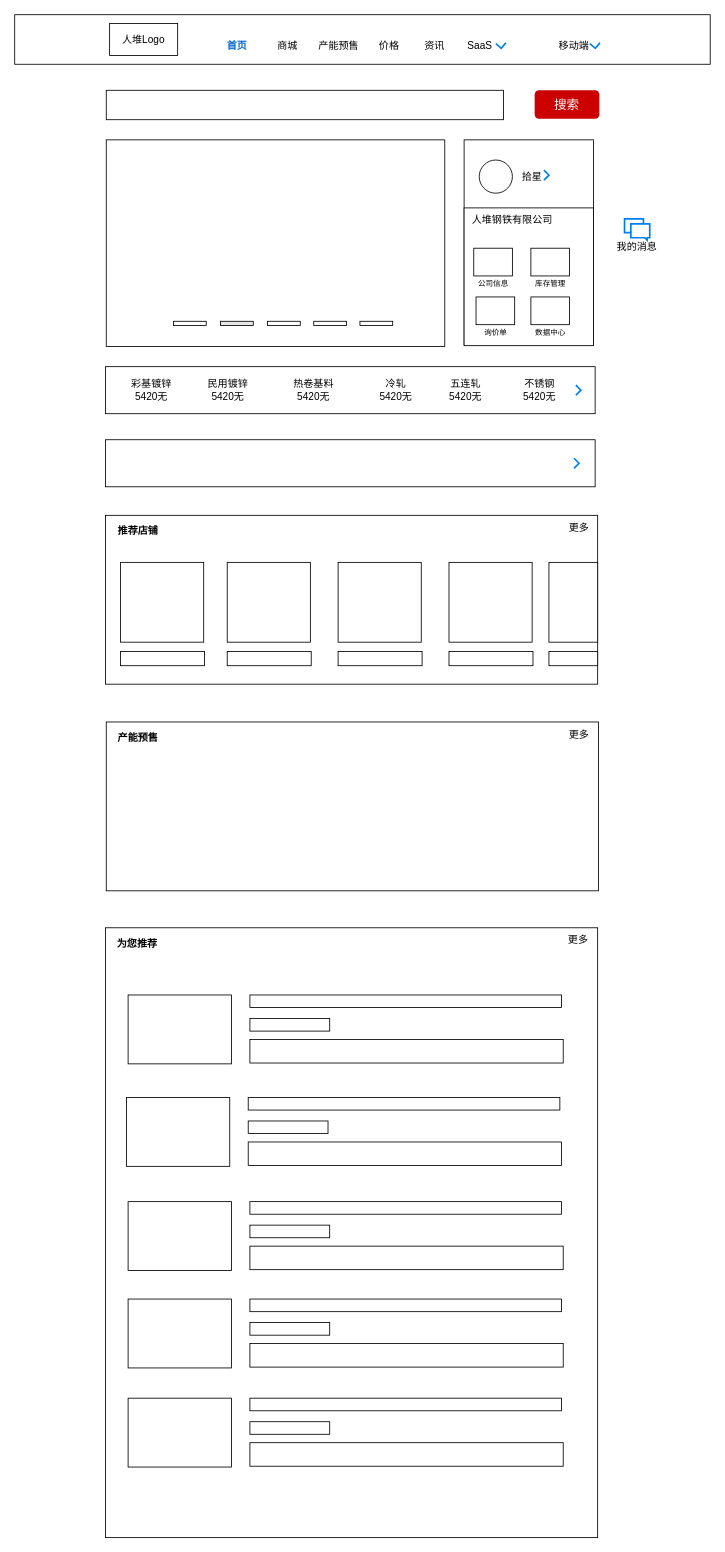
Some shapes in this 725 by 1552 pixel diagram are drawn without their labels. Each missing label, with the centre of its shape:
"号外：国内钢铁需求大暴发！后市发展会朝什么方向？" belongs at [350,463].
"广告宣传位" belongs at [275,242].
